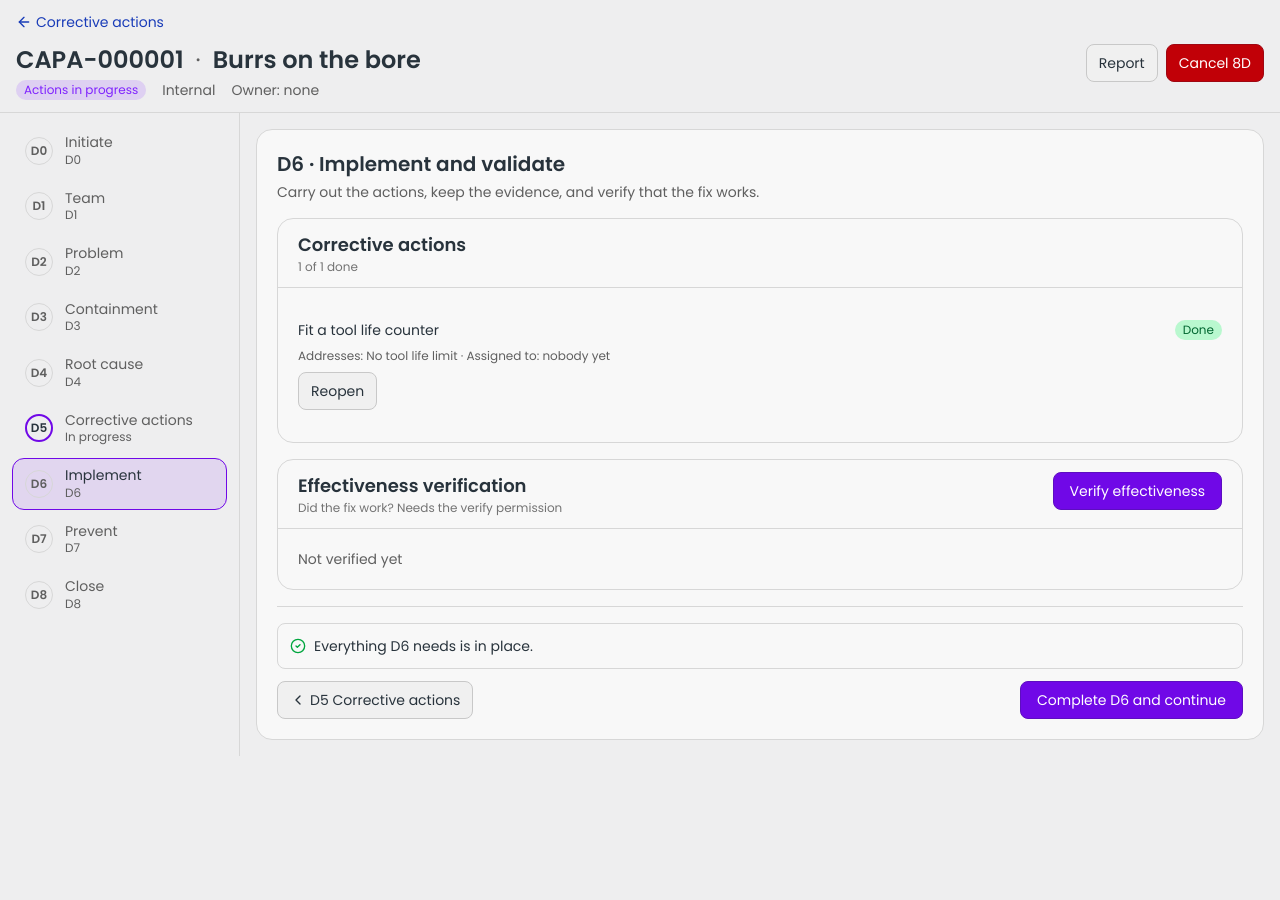
Test: D6: implement and verify › records a verification; a failure needs a note
Later steps or results of the test are not shown.
Click the button "Verify effectiveness".
click(1137, 491)  # box [1053,472,1222,510]
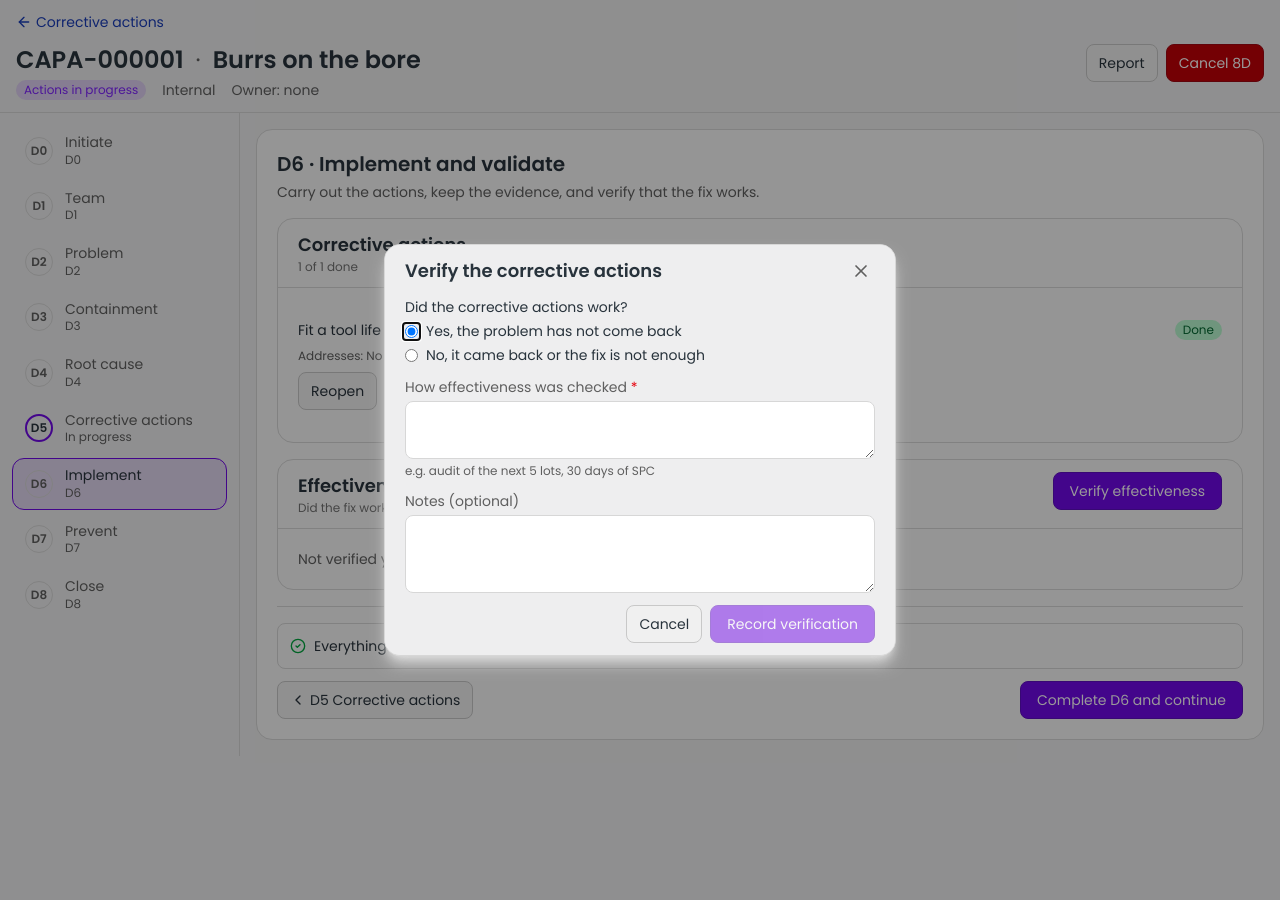
Expected: the button "Record verification" is disabled, [710,605,875,643]
Type "Audit of 5 lots" into the text box labelled "How effectiveness was checked".
click(640, 430); type("Audit of 5 lots")  # box [405,401,875,459]
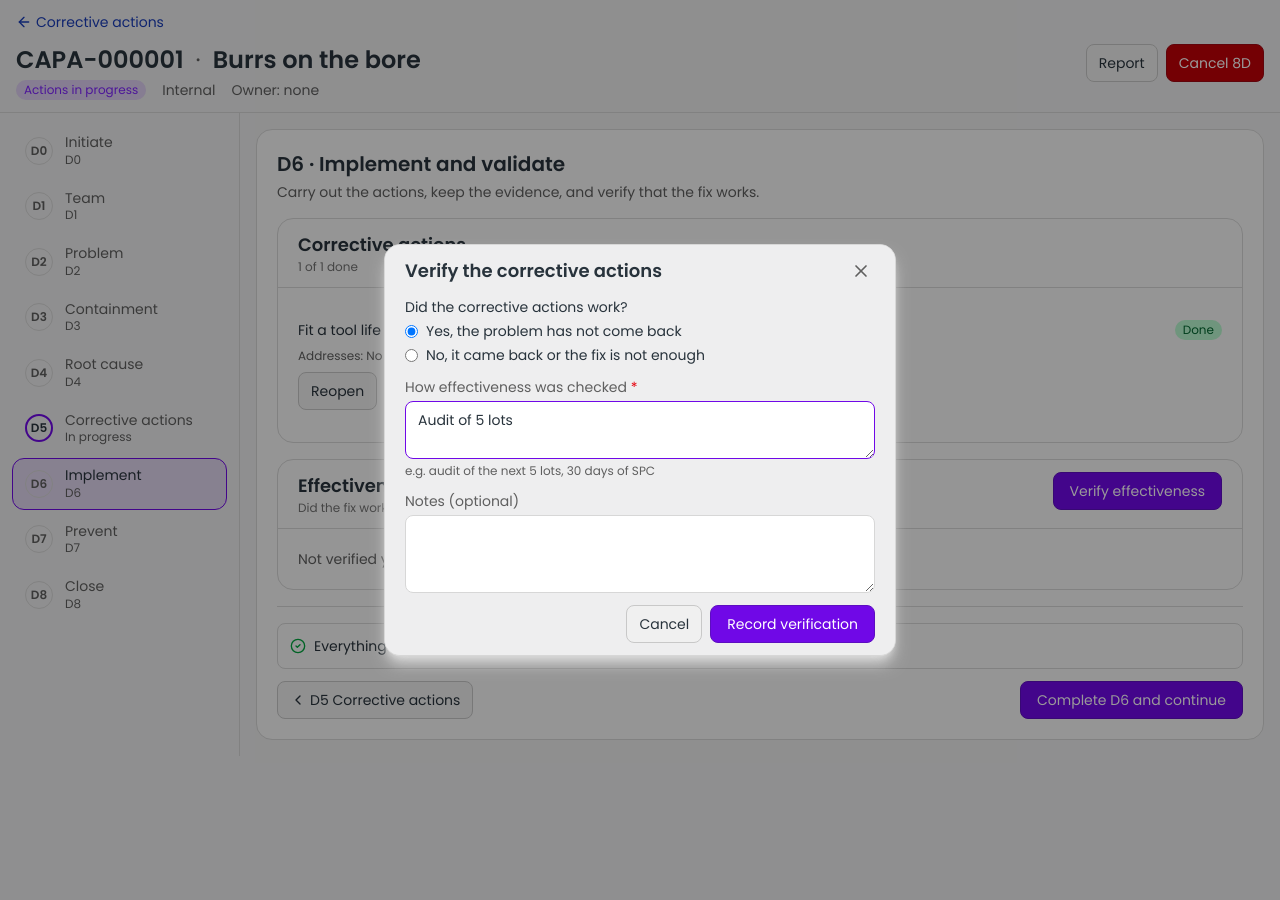
Click the radio button labelled "No, it came back or the fix is not enough".
click(412, 355)  # box [405,348,418,362]
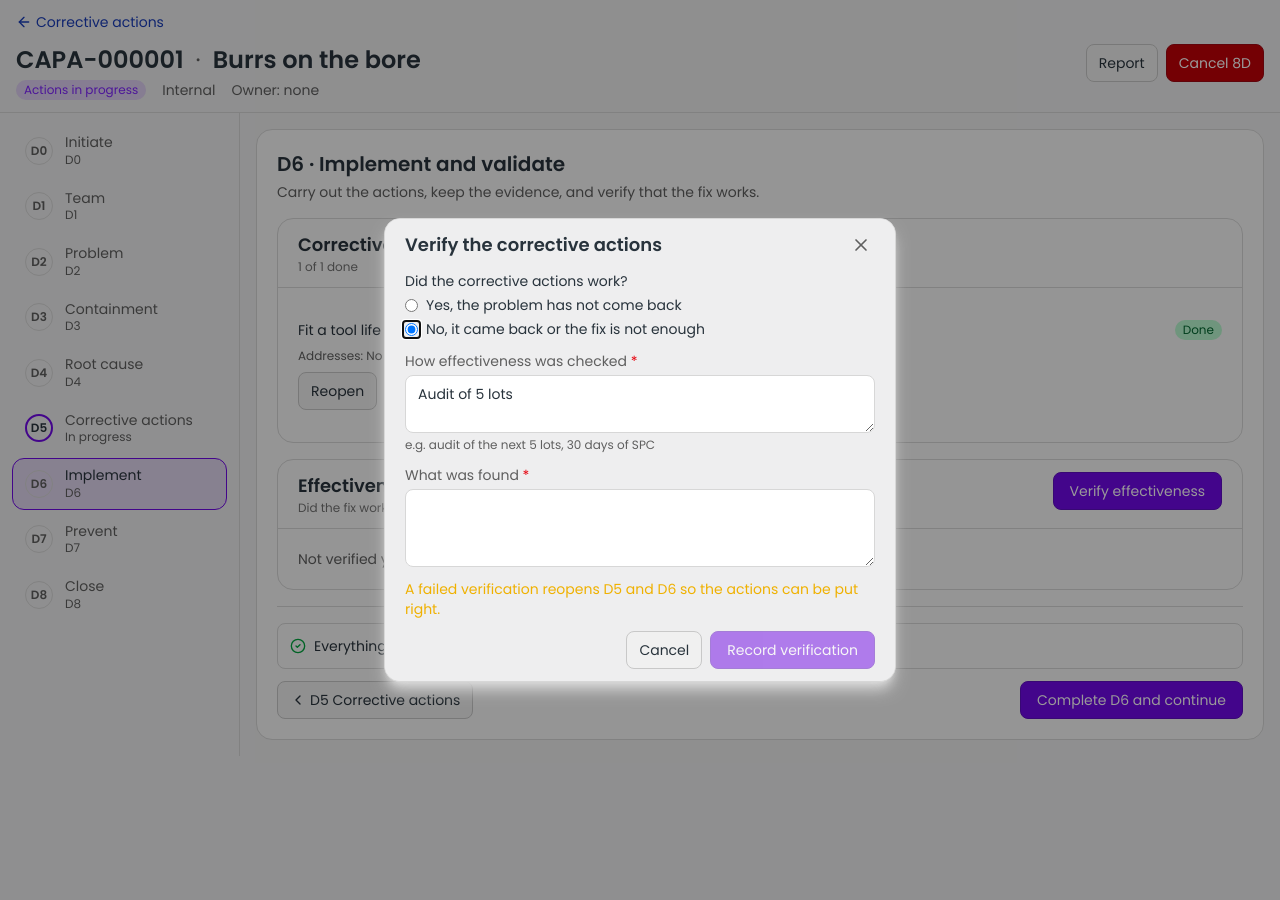
Expected: the button "Record verification" is disabled, [710,631,875,669]
